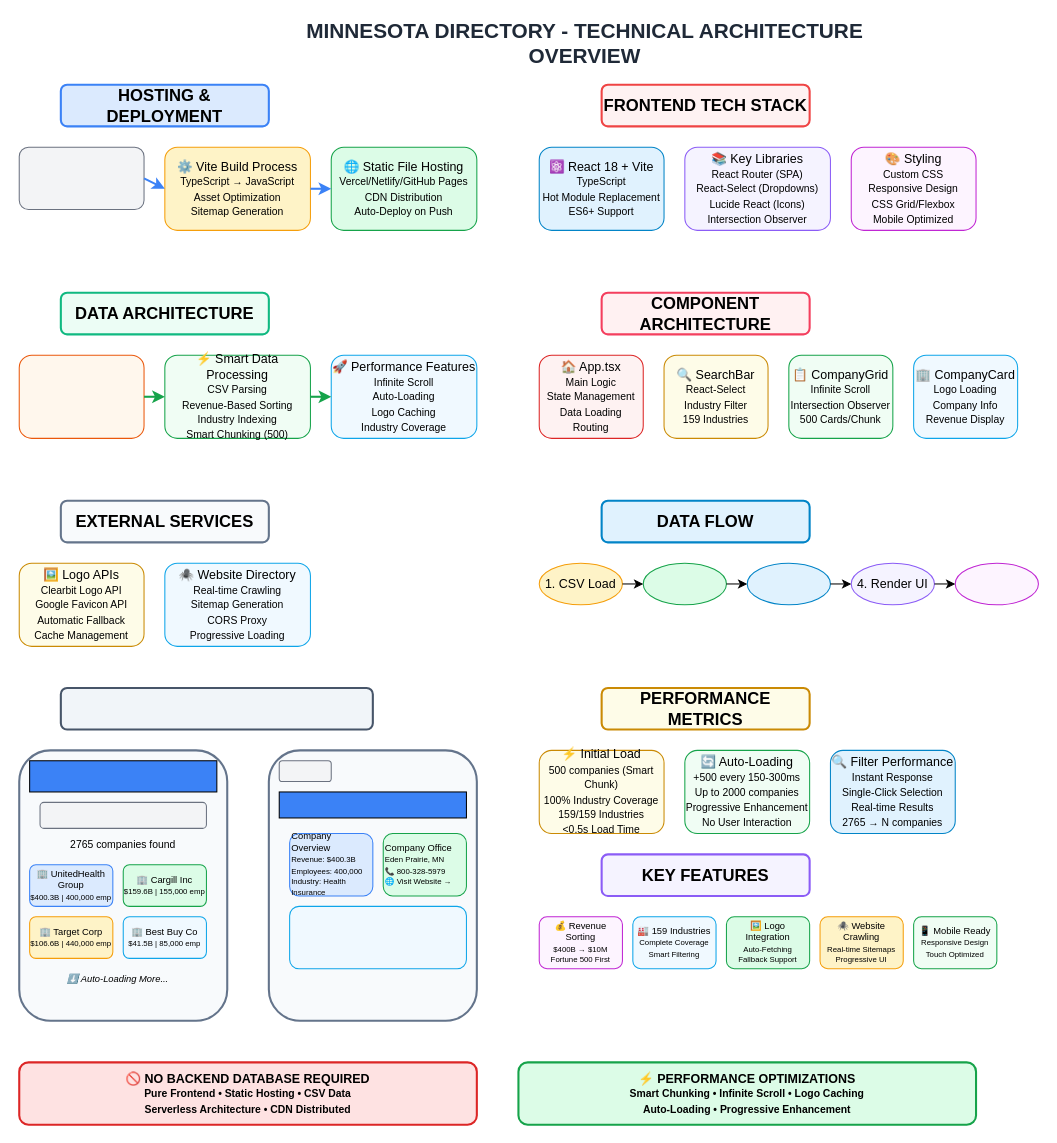
The diagram is 1057 pixels wide and 1143 high, and some of its shapes have lost their labels. The shapes that lost their labels are listed below. From the top down, each one's box as (x1, y1, x2, y2) in pixels, then its label:
(18, 146, 144, 210): 📦 GitHub Repository ever-just/minnesotadirectory
(18, 354, 144, 438): 📊 CSV Data Source 2,765 MN Companies $10M+ Revenue 10+ Employees 49 Data Fields
(642, 562, 726, 605): 2. Parse & Sort
(746, 562, 830, 605): 3. Smart Chunk
(954, 562, 1038, 605): 5. Auto-Load
(59, 686, 373, 730): USER INTERFACE WIREFRAMES
(29, 760, 217, 792): MINNESOTA DIRECTORY
(278, 760, 331, 782): ← Back
(39, 801, 206, 828): 🔽 All Industries - Browse Companies
(278, 791, 466, 818): 🏢 UnitedHealth Group
(289, 905, 466, 969): Website Directory 📁 /about 📁 /careers 📁 /investors 🔄 Real-time crawling...
